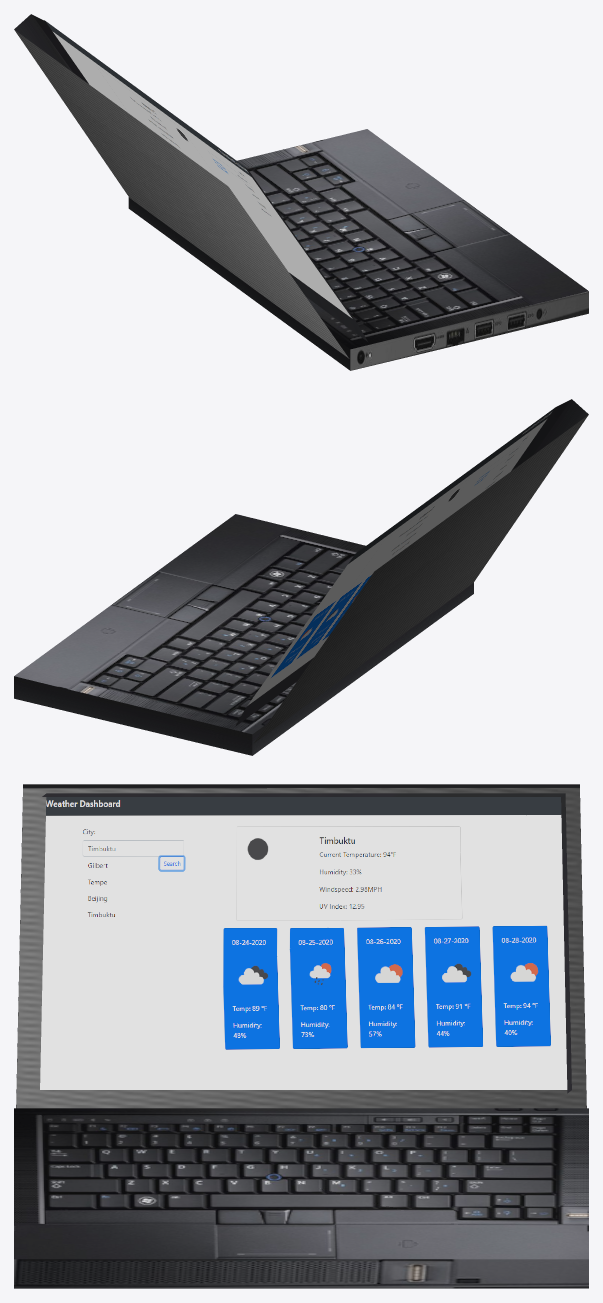
File: laptopweather.glb
3 views of the same model, one above another, from view 1: azimuth 30°, elevation 25°; view 2: azimuth 150°, elevation 25°; view 3: azimuth 270°, elevation 25° (orthographic). The views are drawn at different scales.
Parts seen in each view (by area): view 1: Cube; view 2: Cube; view 3: Cube.
Boxes of the visible parts, bbox=[...] form: Cube: bbox=[14, 14, 588, 370]; Cube: bbox=[14, 399, 588, 755]; Cube: bbox=[14, 784, 588, 1288].
Bounding box in the file's own units: 1.65 × 0.9846 × 1.77.
6 materials, 5 textured.
